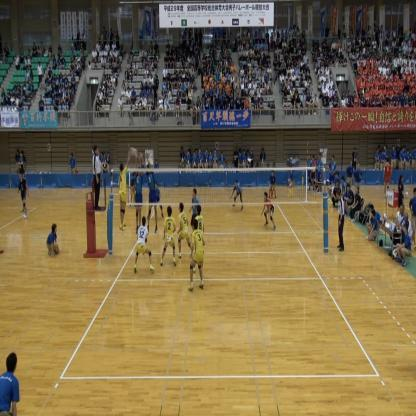spike: (115, 146, 138, 232)
